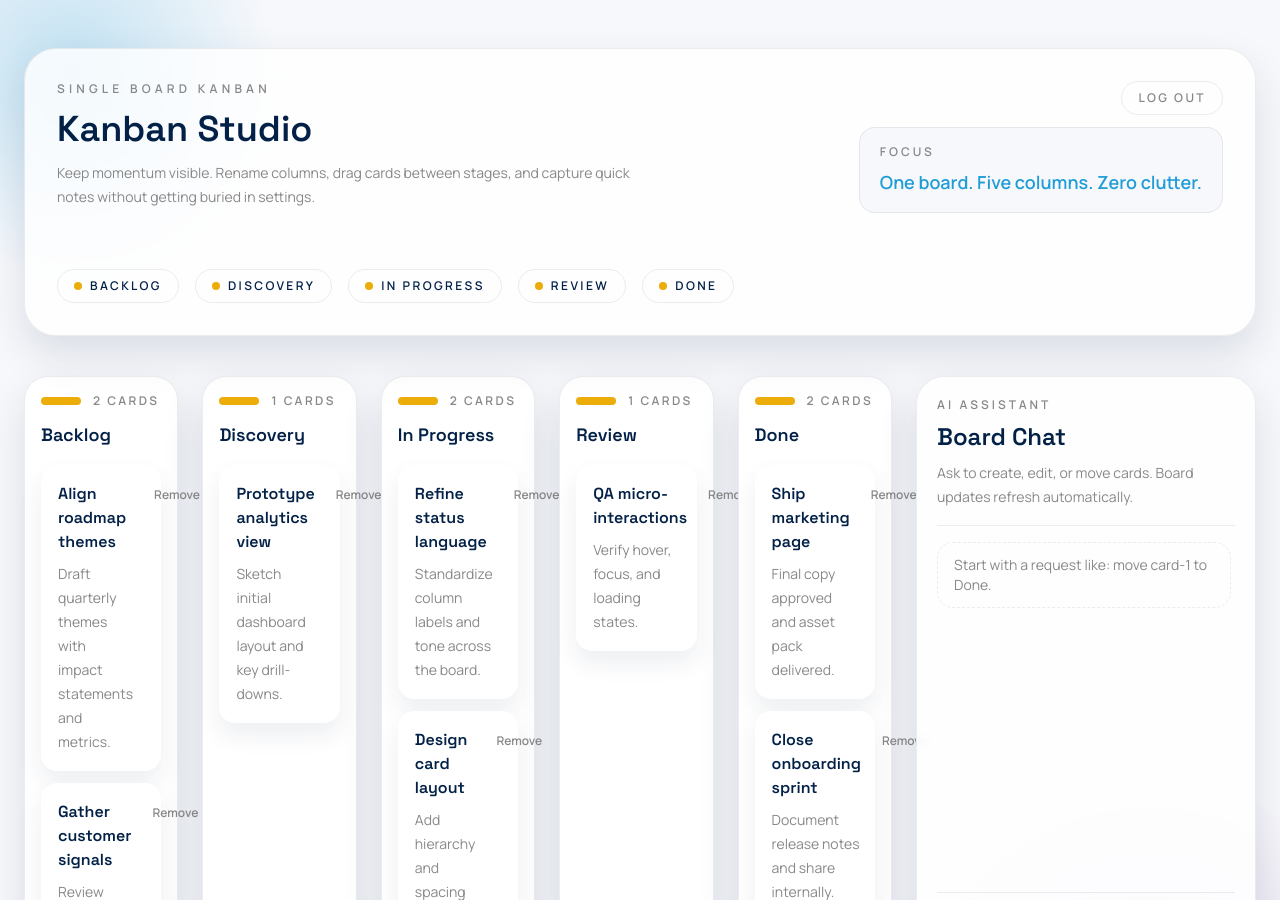
KanbanBoard › shows error when board save fails
Replace the text in the 1st field named "Column title" with "Trigger save error": (101, 435) [41,421,161,449]
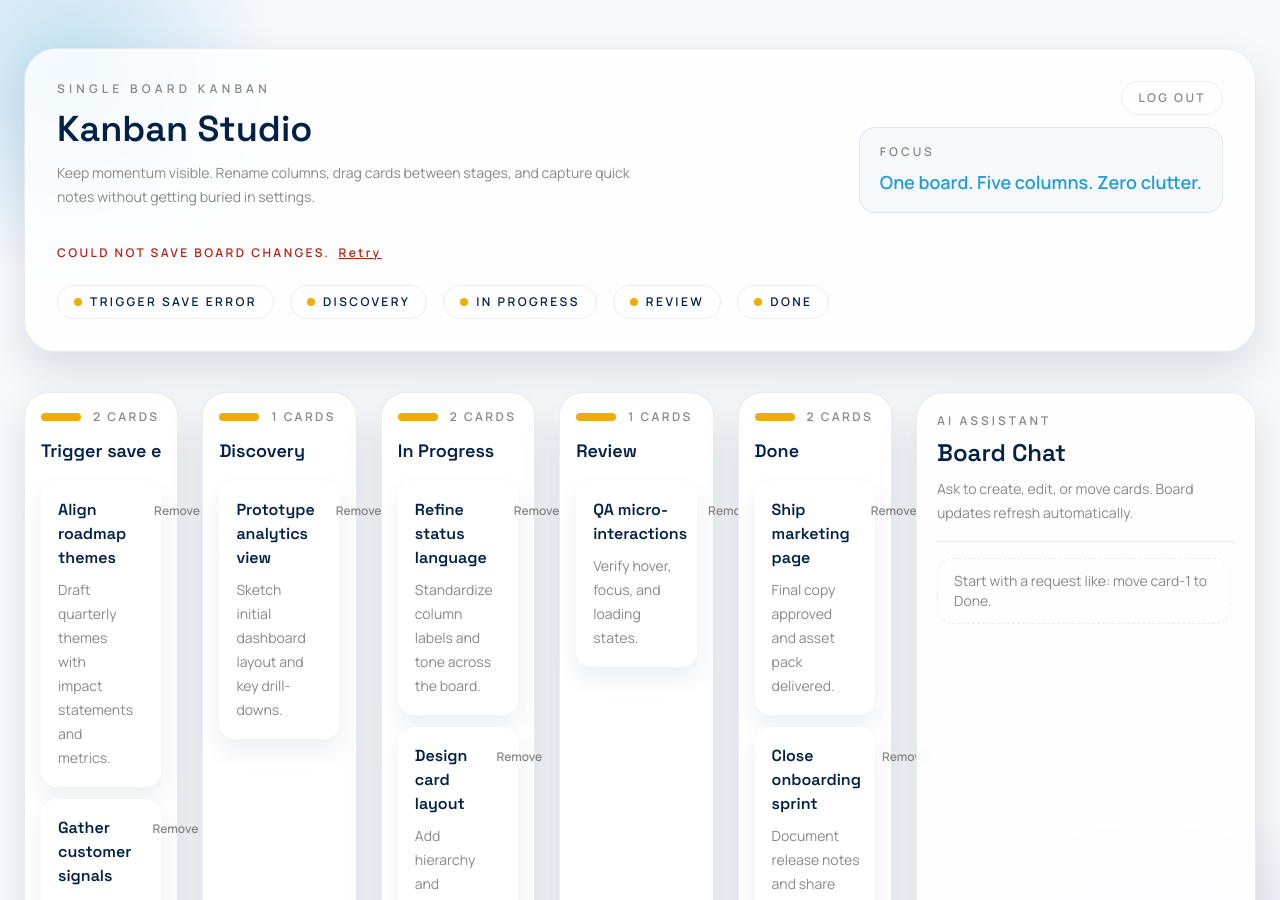
Result: the text "Could not save board changes." is shown at [57,244,330,261]
